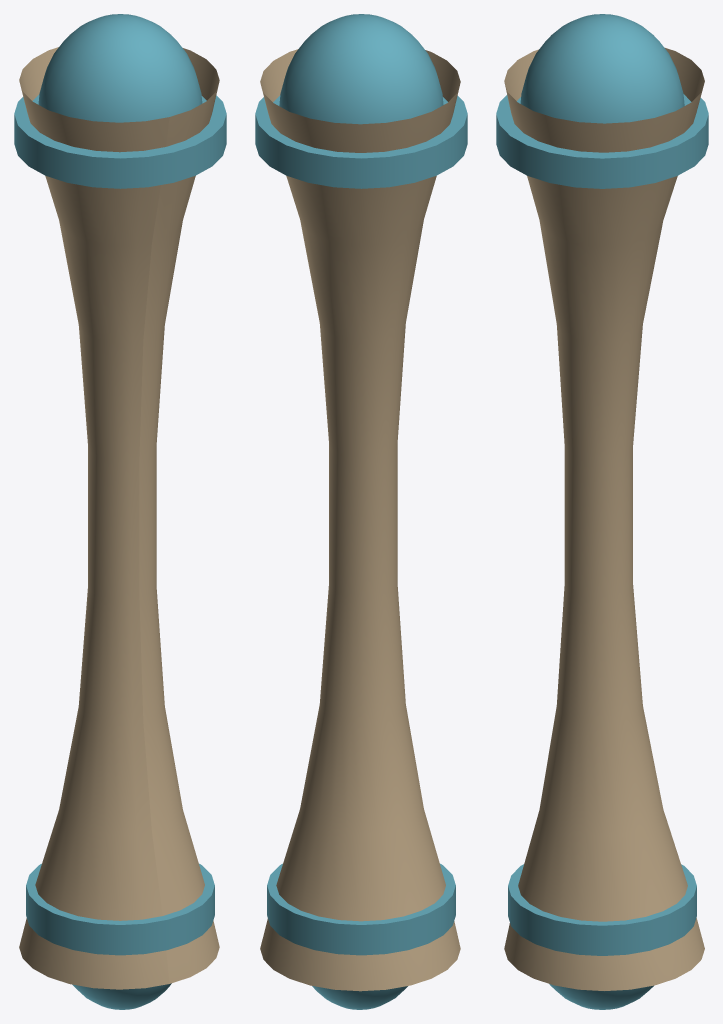
The model's file is right_metatarsal_1.glb.
The picture shows the model from 3 angles, left to right: view 1: azimuth 30°, elevation 25°; view 2: azimuth 150°, elevation 25°; view 3: azimuth 270°, elevation 25°; orthographic projection.
Visible parts, largest first — view 1: right_metatarsal_1:diaphysis, right_metatarsal_1:proximal-envelope, right_metatarsal_1:proximal-epiphyseal-plate, right_metatarsal_1:distal-epiphyseal-plate, right_metatarsal_1:distal-envelope; view 2: right_metatarsal_1:diaphysis, right_metatarsal_1:proximal-envelope, right_metatarsal_1:proximal-epiphyseal-plate, right_metatarsal_1:distal-epiphyseal-plate, right_metatarsal_1:distal-envelope; view 3: right_metatarsal_1:diaphysis, right_metatarsal_1:proximal-envelope, right_metatarsal_1:proximal-epiphyseal-plate, right_metatarsal_1:distal-epiphyseal-plate, right_metatarsal_1:distal-envelope.
Boxes of the visible parts, <box> form: right_metatarsal_1:diaphysis: <box>19,47,219,989</box>; right_metatarsal_1:proximal-envelope: <box>38,14,202,122</box>; right_metatarsal_1:proximal-epiphyseal-plate: <box>14,94,226,188</box>; right_metatarsal_1:distal-epiphyseal-plate: <box>26,863,214,955</box>; right_metatarsal_1:distal-envelope: <box>72,983,171,1009</box>; right_metatarsal_1:diaphysis: <box>260,49,460,991</box>; right_metatarsal_1:proximal-envelope: <box>279,14,443,124</box>; right_metatarsal_1:proximal-epiphyseal-plate: <box>255,95,467,188</box>; right_metatarsal_1:distal-epiphyseal-plate: <box>267,863,455,955</box>; right_metatarsal_1:distal-envelope: <box>312,986,407,1009</box>; right_metatarsal_1:diaphysis: <box>504,48,704,990</box>; right_metatarsal_1:proximal-envelope: <box>520,14,684,123</box>; right_metatarsal_1:proximal-epiphyseal-plate: <box>496,94,708,188</box>; right_metatarsal_1:distal-epiphyseal-plate: <box>508,864,696,955</box>; right_metatarsal_1:distal-envelope: <box>549,984,653,1009</box>.
Bounding box in the file's own units: 0.0396 × 0.2024 × 0.0396.
